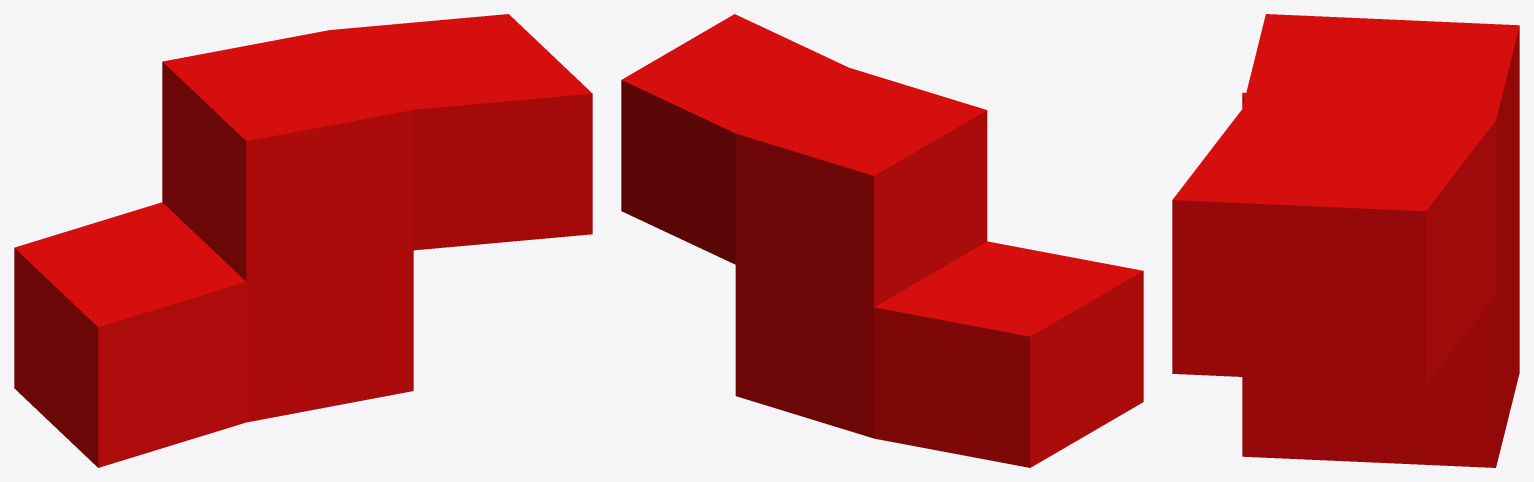
File: Piece5.fbx
The picture shows the model from 3 angles, left to right: view 1: azimuth 30°, elevation 25°; view 2: azimuth 150°, elevation 25°; view 3: azimuth 270°, elevation 25°; orthographic projection. The views are drawn at different scales.
Visible parts, largest first — view 1: Block5; view 2: Block5; view 3: Block5.
Boxes of the visible parts, x1,y1,x2,y2 form: Block5: (14, 14, 592, 467); Block5: (621, 14, 1143, 467); Block5: (1172, 14, 1519, 467).
Size of the model in its own units: 271 by 150 by 136.
